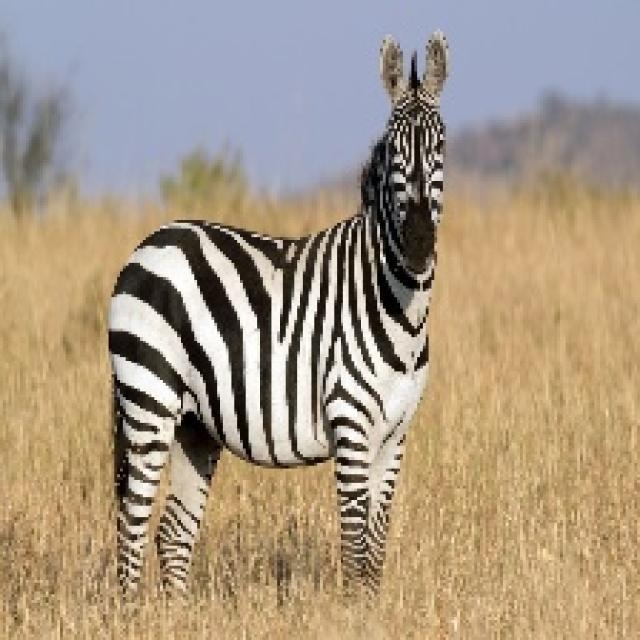animal: (82, 37, 547, 592)
